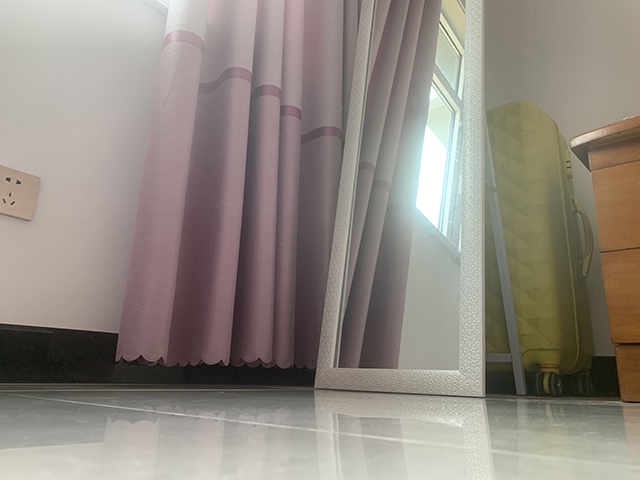curtain: (113, 1, 361, 372)
